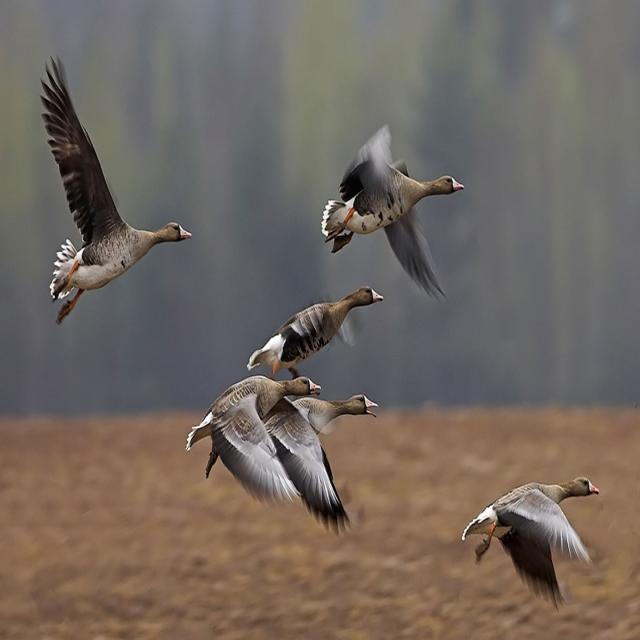bird: (32, 50, 199, 318), (311, 130, 473, 307), (258, 386, 383, 550), (220, 283, 388, 390), (188, 372, 316, 505), (461, 484, 593, 608)
